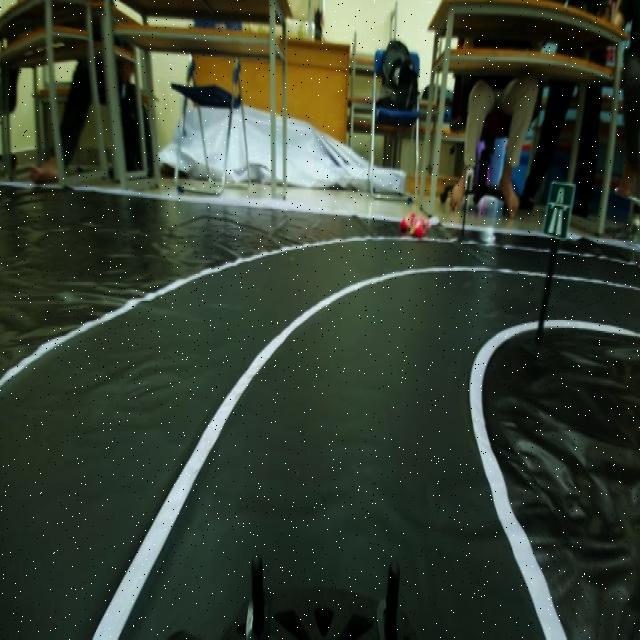highway_entry: (541, 170, 575, 245)
